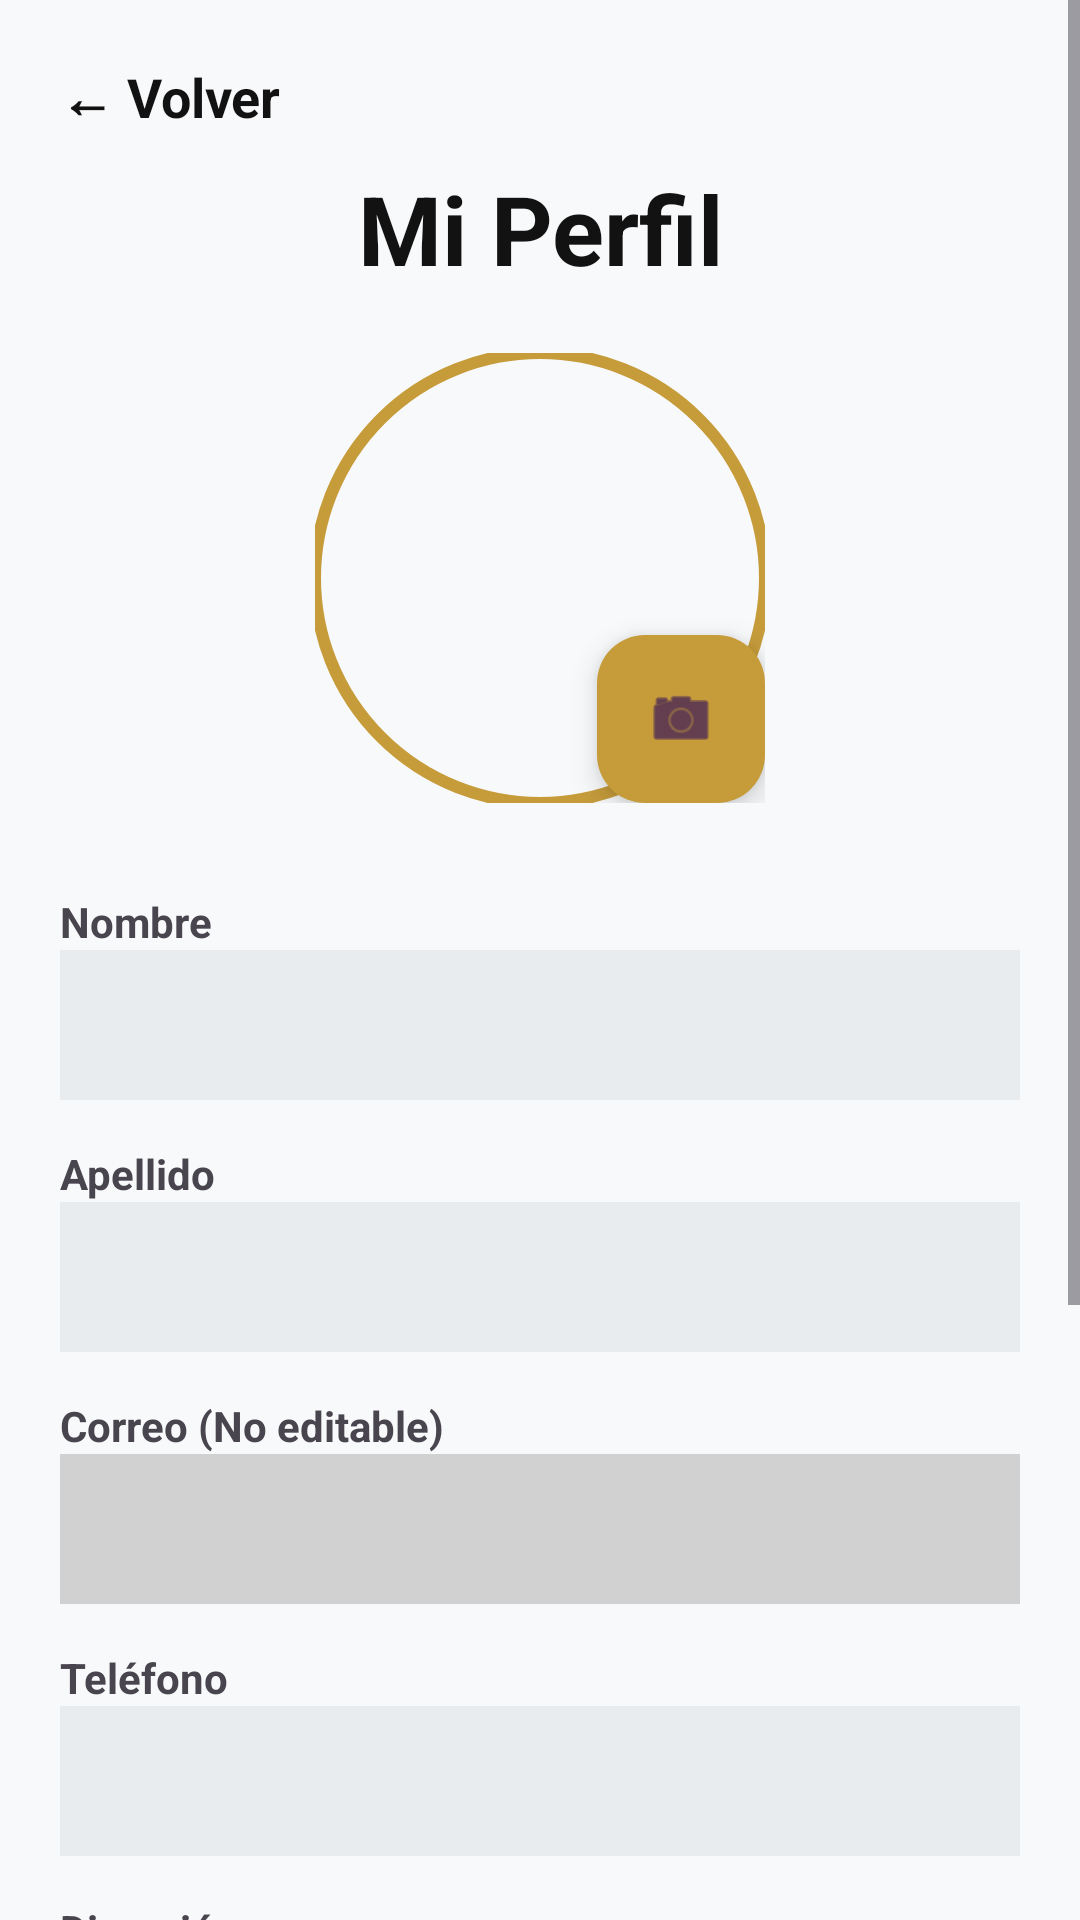

Named icons in this screenshot (1080px×1920px) and their centers, [x,y]:
camera: [681,719]
